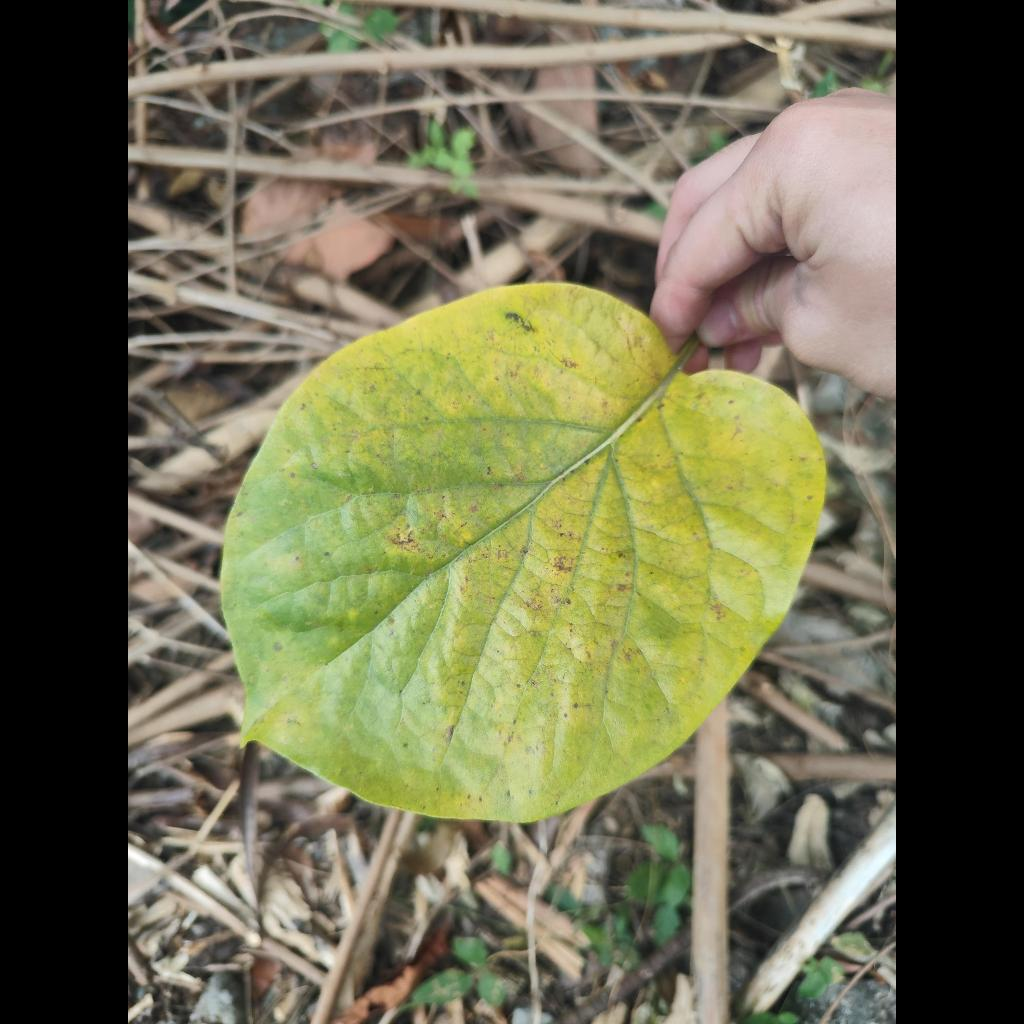nutrient_deficiency: (221, 285, 825, 821)
